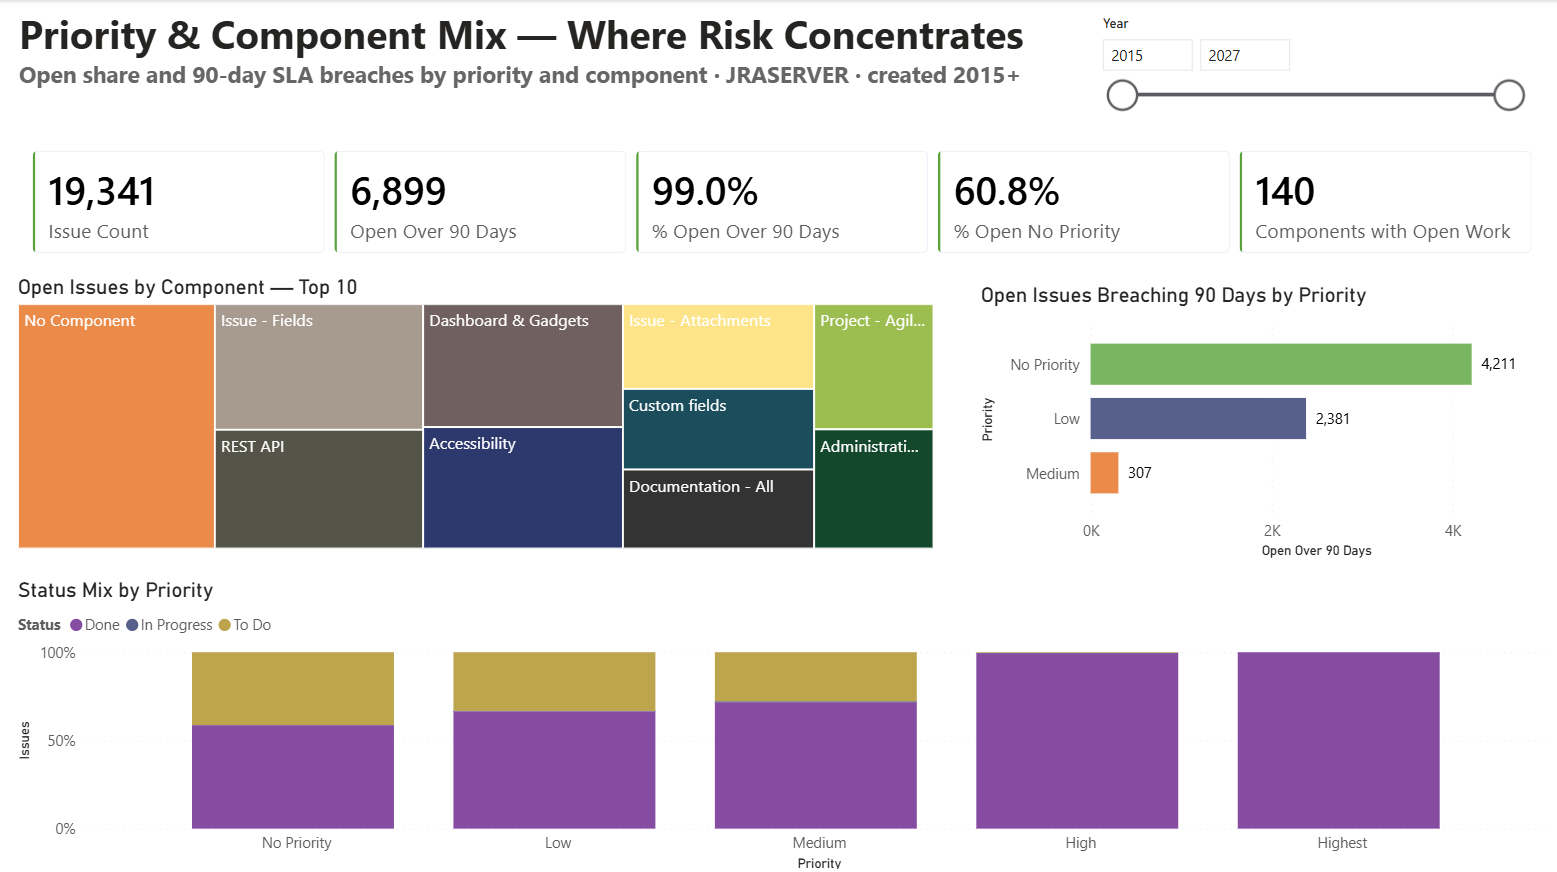

This screenshot's page, from the dashboard's own definition file:
{"tool":"powerbi","page":{"name":"Priority & Component Mix","canvas":[1280,720],"ordinal":2},"visuals":[{"type":"textbox","box":[10.7,0,860.5,97],"z":0},{"type":"slicer","fields":{"Values":["pbi vw_dim_date.calendar_year"]},"box":[893.4,7.8,367.5,89.7],"z":1},{"type":"cardVisual","fields":{"Data":["_Measures.Issue Count (Mix)","_Measures.Open Over 90d","_Measures.% Open Over 90d","_Measures.% Open No Priority","_Measures.Components with Open Work"]},"box":[9.6,107.1,1270.4,118.4],"z":2},{"type":"treemap","title":"Open Issues by Component — Top 10","fields":{"Group":["pbi vw_priority_component_mix.component_name"],"Values":["_Measures.Open Issues (Mix)"]},"box":[9.7,226.2,762.4,229.8],"z":3},{"type":"barChart","title":"Open Issues Breaching 90 Days by Priority","fields":{"Category":["pbi vw_priority_component_mix.priority_name"],"Y":["_Measures.Open Over 90d"]},"box":[801.1,232.4,478.9,230.6],"z":4},{"type":"hundredPercentStackedColumnChart","title":"Status Mix by Priority","fields":{"Category":["pbi vw_priority_component_mix.priority_name"],"Y":["_Measures.Issue Count (Mix)"],"Series":["pbi vw_priority_component_mix.status_category"]},"box":[10,475.4,1270.3,245],"z":5}]}

Visuals, with their boxes in screenshot pixels (x1, y1, x2, y2), scaled from the page's 1280x720 canvas onto the 1557x872 screenshot:
textbox: [13, 0, 1060, 117]
slicer - pbi vw_dim_date.calendar_year: [1087, 9, 1534, 118]
cardVisual - _Measures.Issue Count (Mix) x _Measures.Open Over 90d: [12, 130, 1556, 273]
"Open Issues by Component — Top 10" treemap: [12, 274, 939, 552]
"Open Issues Breaching 90 Days by Priority" barChart: [974, 281, 1556, 561]
"Status Mix by Priority" hundredPercentStackedColumnChart: [12, 576, 1556, 871]
